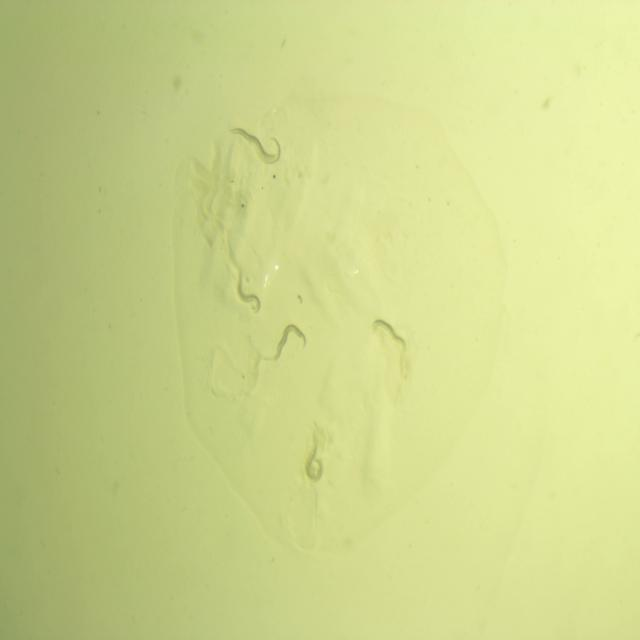worm: (365, 300, 410, 359), (226, 112, 281, 160), (262, 318, 314, 368), (233, 267, 266, 322), (246, 130, 286, 169), (302, 429, 328, 488)
